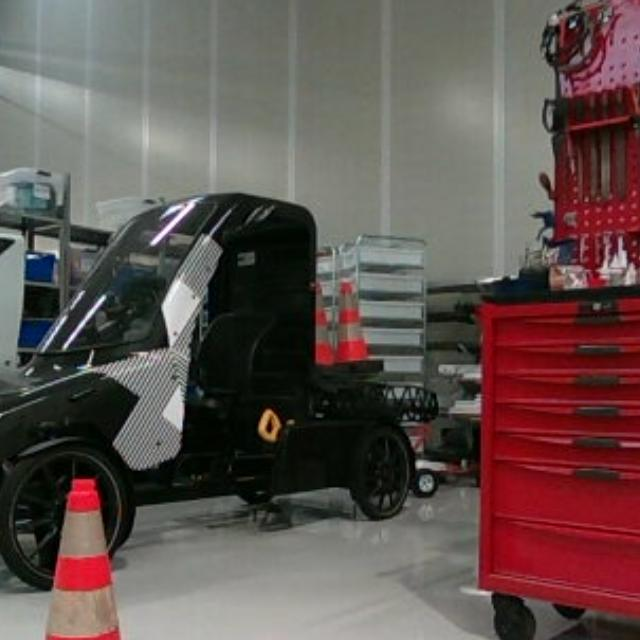Traffic-cone: (0, 474, 176, 640), (328, 279, 380, 366)
